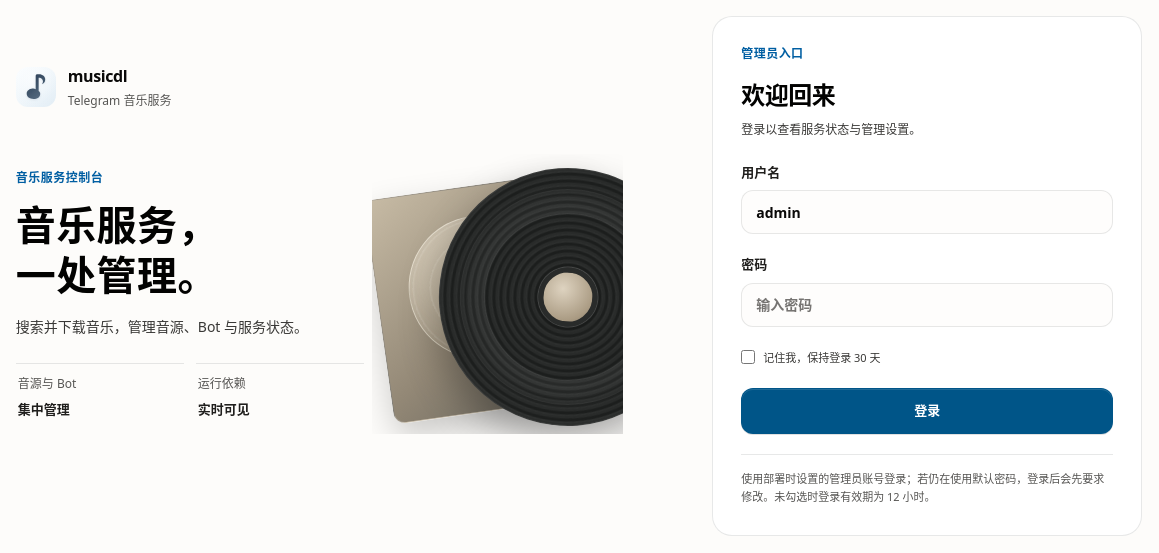
Test: LoginPage › blocks duplicate submits during login and clears the password after success
Replace the text in the field named "username" with " admin " at (927, 212), box [741,190,1113,234]
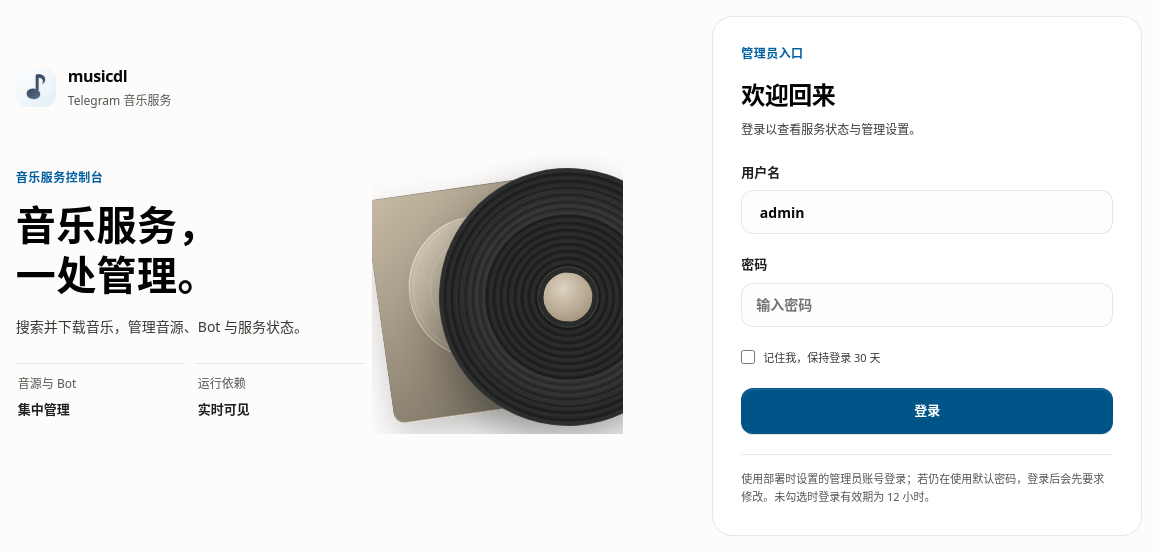
Type "current-secret" into the password field named "password" at (927, 304), box [741,282,1113,326]
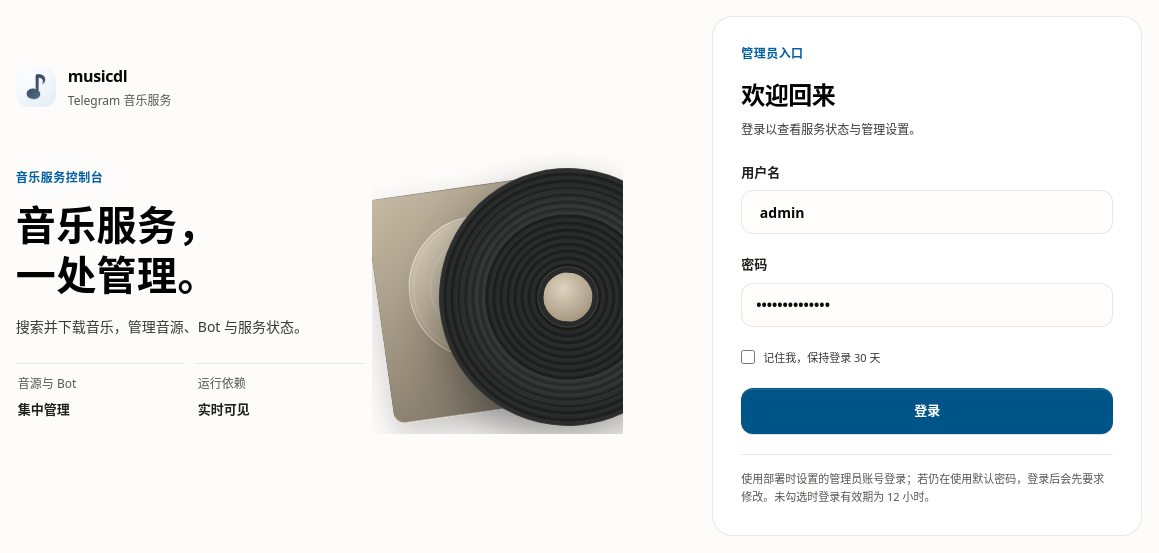
Submit the form, box [741,162,1113,434]
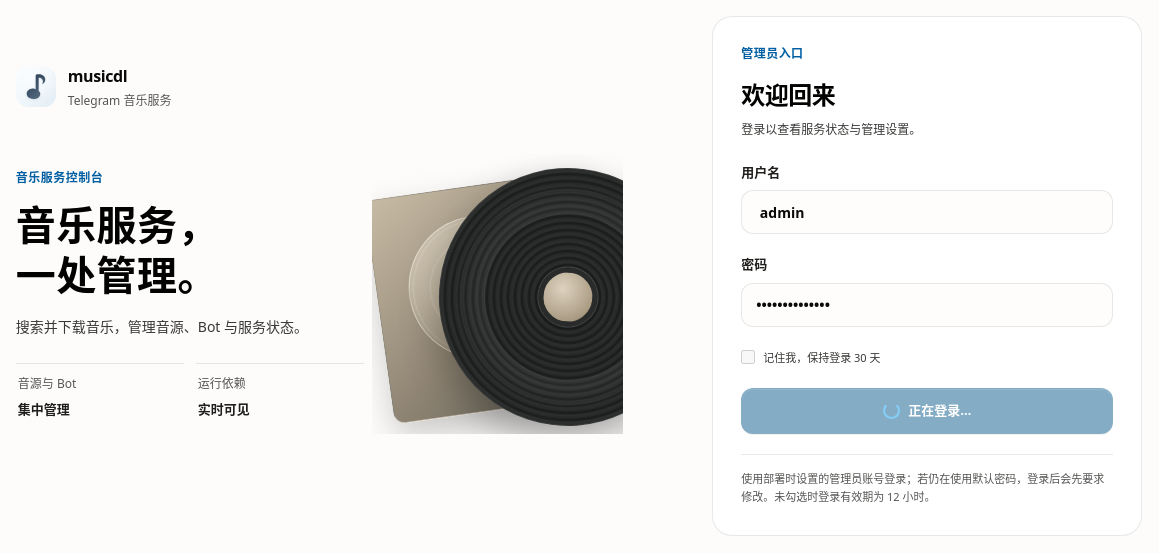
Expected: the field named "username" is disabled, [741,190,1113,234]
Now the submit button is disabled, box [741,388,1113,434]
Submit the form, box [741,162,1113,434]
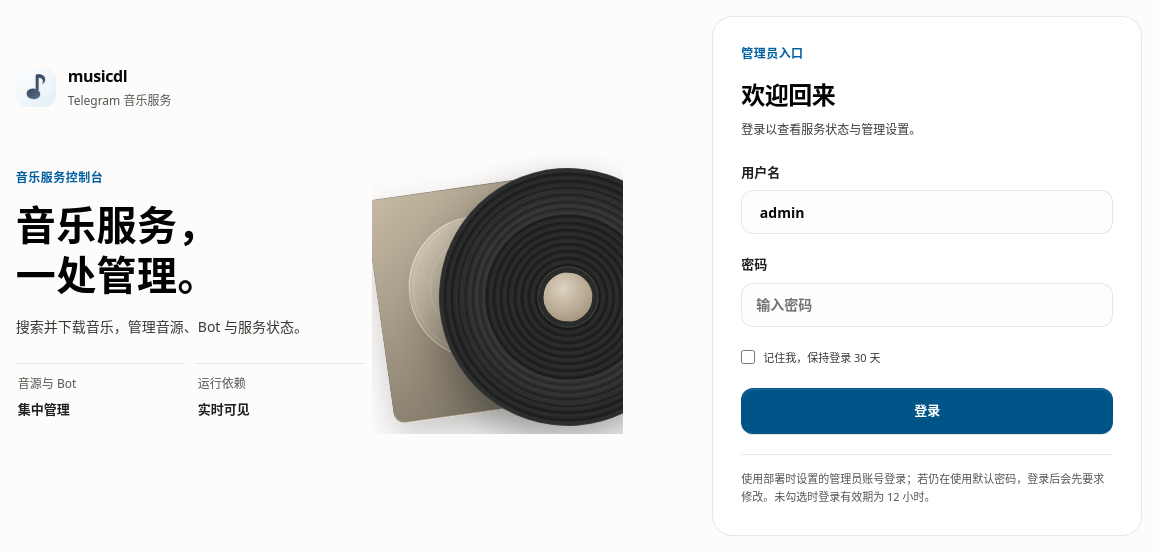
Now the password field named "password" is empty, box [741,282,1113,326]
Now the submit button is enabled, box [741,388,1113,434]
